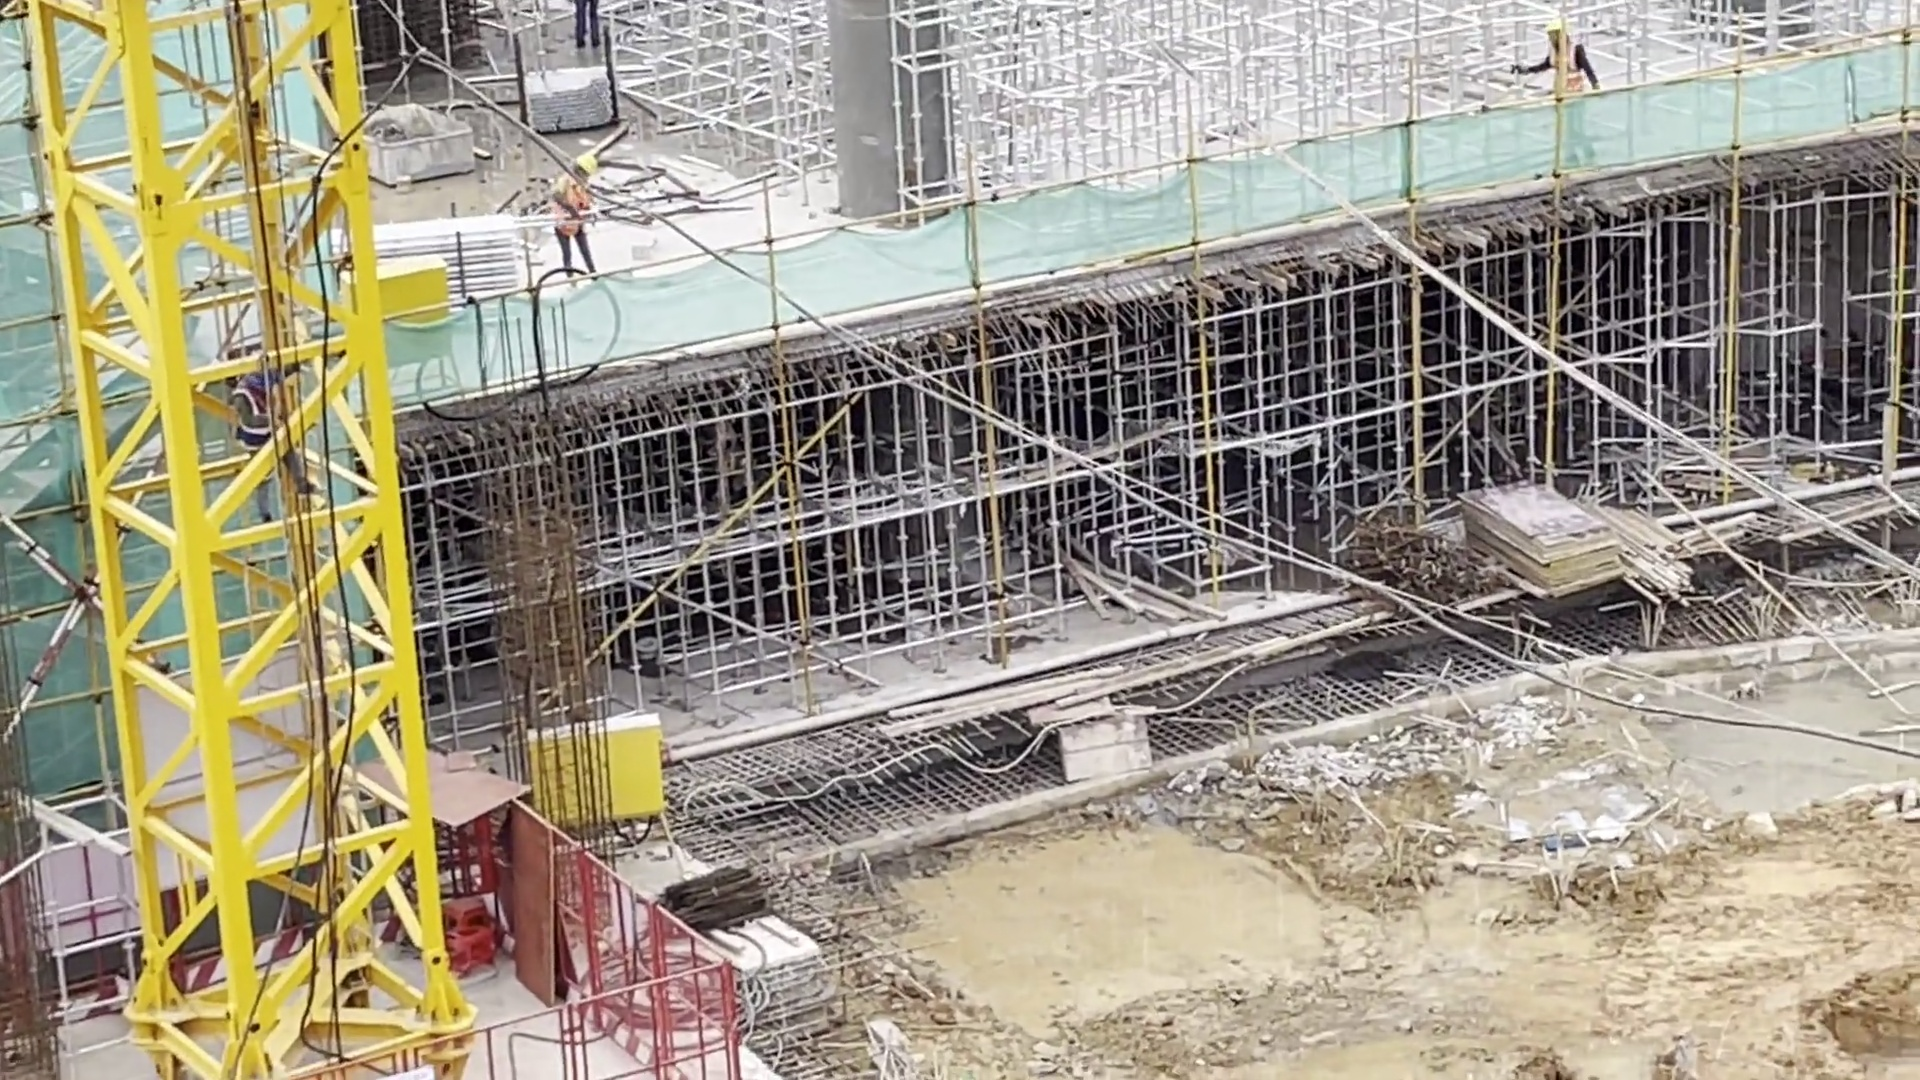board: (1463, 479, 1611, 598)
ebox: (512, 712, 677, 851), (338, 262, 452, 394)
fence: (557, 838, 654, 1058), (657, 913, 738, 1080)
helmet: (577, 153, 594, 172), (1544, 17, 1558, 30)
hopper: (364, 104, 477, 184)
person: (231, 366, 324, 519), (229, 364, 322, 517), (1514, 20, 1595, 159), (551, 153, 607, 287)
scaffold: (365, 219, 526, 299), (523, 63, 605, 128)
vest: (236, 370, 274, 435), (553, 174, 589, 232), (231, 386, 267, 443), (1550, 36, 1582, 92), (554, 173, 587, 224), (1558, 46, 1582, 96)
wood: (1587, 493, 1682, 603)
